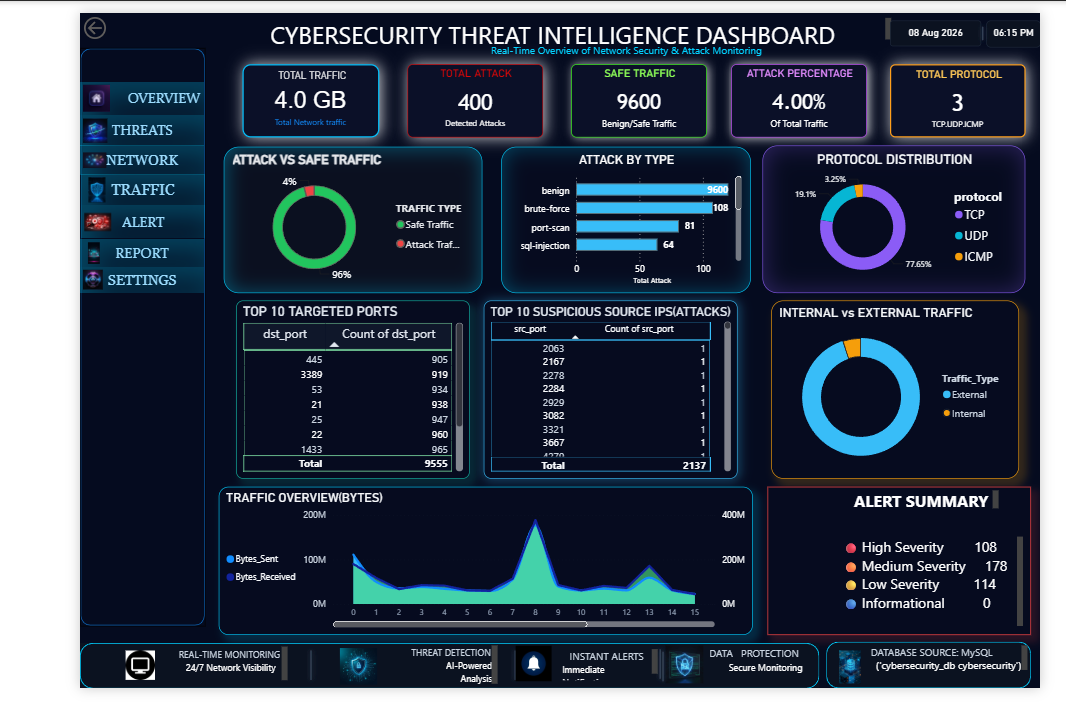

Layout of this report page (visuals, bound fields, positions):
{"tool":"powerbi","page":{"name":"Page 1","canvas":[1280,900],"ordinal":0},"visuals":[{"type":"shape","box":[0,46.2,167.5,771.2],"z":0},{"type":"textbox","box":[181.2,1.2,904.7,51.3],"z":1000},{"type":"textbox","box":[461.3,35.8,534,32.2],"z":2000},{"type":"card","title":"TOTAL PROTOCOL","fields":{"Values":["cybersecurity_db cybersecurity.Total Protocols"]},"box":[1080,67.9,181.2,97.7],"z":3000},{"type":"card","title":"TOTAL TRAFFIC","fields":{"Values":["cybersecurity_db cybersecurity.Total Traffic"]},"box":[216.9,67.9,182.4,97.7],"z":4000},{"type":"card","title":"SAFE TRAFFIC","fields":{"Values":["cybersecurity_db cybersecurity.Safe Traffic"]},"box":[654.4,67.9,181.2,97.7],"z":5000},{"type":"card","title":"ATTACK PERCENTAGE","fields":{"Values":["cybersecurity_db cybersecurity.Attack%"]},"box":[869,67.9,181.2,97.7],"z":6000},{"type":"card","title":"TOTAL ATTACK","fields":{"Values":["cybersecurity_db cybersecurity.Total Attack"]},"box":[436.3,67.9,181.2,97.7],"z":7000},{"type":"actionButton","box":[0,0,100,40],"z":8000},{"type":"donutChart","title":"ATTACK VS SAFE TRAFFIC","fields":{"Category":["cybersecurity_db cybersecurity.Traffic Type"],"Y":["CountNonNull(cybersecurity_db cybersecurity.Traffic Type)"]},"box":[191.9,177.6,344.5,195.5],"z":9000},{"type":"clusteredBarChart","title":"ATTACK BY TYPE","fields":{"Category":["cybersecurity_db cybersecurity.attack_type"],"Y":["CountNonNull(cybersecurity_db cybersecurity.attack_type)"]},"box":[561.4,177.6,332.6,195.5],"z":10000},{"type":"donutChart","title":"PROTOCOL DISTRIBUTION ","fields":{"Category":["cybersecurity_db cybersecurity.protocol"],"Y":["CountNonNull(cybersecurity_db cybersecurity.protocol)"]},"box":[910.7,176.4,350.5,196.7],"z":11000},{"type":"tableEx","title":"TOP 10 TARGETED  PORTS","fields":{"Values":["cybersecurity_db cybersecurity.dst_port","CountNonNull(cybersecurity_db cybersecurity.dst_port)"]},"box":[207.5,383.8,311.2,237.5],"z":12000},{"type":"tableEx","title":"TOP 10 SUSPICIOUS SOURCE IPS(ATTACKS)","fields":{"Values":["cybersecurity_db cybersecurity.src_port","CountNonNull(cybersecurity_db cybersecurity.src_port)"]},"box":[538.8,383.8,338.8,237.5],"z":13000},{"type":"donutChart","title":"INTERNAL vs EXTERNAL TRAFFIC","fields":{"Category":["cybersecurity_db cybersecurity.Traffic_Type"],"Y":["CountNonNull(cybersecurity_db cybersecurity.src_ip)"]},"box":[921.2,383.8,330,237.5],"z":14000},{"type":"areaChart","title":"TRAFFIC OVERVIEW(BYTES)","fields":{"Y":["Sum(cybersecurity_db cybersecurity.bytes_sent)"],"Y2":["Sum(cybersecurity_db cybersecurity.bytes_received)"],"Category":["cybersecurity_db cybersecurity.Hour_Number"]},"box":[184.4,631.1,712.2,197.8],"z":15000},{"type":"textbox","box":[916.2,631.2,351.2,197.5],"z":16000},{"type":"textbox","box":[1020,631.2,210,36.2],"z":17000},{"type":"shape","box":[0,839.2,985.8,60.8],"z":18000},{"type":"shape","box":[568.6,841.6,23.8,56],"z":19000},{"type":"shape","box":[296.8,841.6,22.6,56],"z":20000},{"type":"shape","box":[761.7,839.2,23.8,56],"z":21000},{"type":"textbox","box":[79.9,839.2,201.5,58.4],"z":22000},{"type":"textbox","box":[638.9,844,137.1,51.3],"z":23000},{"type":"textbox","box":[399.3,838,162.1,62],"z":24000},{"type":"textbox","box":[810.6,839.2,171.7,60.8],"z":25000},{"type":"image","box":[59.6,849.9,40.5,39.3],"z":26000},{"type":"image","box":[580.5,844,50.1,47.7],"z":27000},{"type":"image","box":[777.2,842.8,58.4,50.1],"z":28000},{"type":"image","box":[343.3,846.3,56,48.9],"z":29000},{"type":"shape","box":[995.3,838,273,62],"z":30000},{"type":"textbox","box":[1041.8,838,226.5,51.3],"z":31000},{"type":"image","box":[1003.7,849.9,46.5,44.1],"z":32000},{"type":"card","fields":{"Values":["cybersecurity_db cybersecurity.Current Date"]},"box":[1080,10.7,121.6,34.6],"z":33000},{"type":"card","fields":{"Values":["cybersecurity_db cybersecurity.Current Time"]},"box":[1207.5,9.5,72.7,35.8],"z":34000},{"type":"shape","box":[1192,10.7,23.8,34.6],"z":35000},{"type":"shape","box":[316.4,844,921.4,56],"z":36000},{"type":"actionButton","box":[0,91.8,164.5,44.1],"z":37000},{"type":"actionButton","box":[0,135.9,165.7,40.5],"z":38000},{"type":"actionButton","box":[0,176.4,165.7,39.3],"z":39000},{"type":"actionButton","box":[1.2,215.8,164.5,41.7],"z":40000},{"type":"actionButton","box":[1.2,257.5,165.7,44.1],"z":41000},{"type":"actionButton","box":[0,301.6,165.7,37],"z":42000},{"type":"actionButton","box":[0,338.5,165.7,34.6],"z":43000},{"type":"textbox","box":[1012.5,692.5,248.8,136.2],"z":45000}]}

Visuals, with their boxes on the page's 1280x900 design canvas (x1, y1, x2, y2). These are canvas units, not pixel positions in the 1066x702 screenshot, which may show the page scaled, cropped or inside an application window:
shape: BBox(0, 46, 168, 817)
textbox: BBox(181, 1, 1086, 52)
textbox: BBox(461, 36, 995, 68)
"TOTAL PROTOCOL" card: BBox(1080, 68, 1261, 166)
"TOTAL TRAFFIC" card: BBox(217, 68, 399, 166)
"SAFE TRAFFIC" card: BBox(654, 68, 836, 166)
"ATTACK PERCENTAGE" card: BBox(869, 68, 1050, 166)
"TOTAL ATTACK" card: BBox(436, 68, 618, 166)
actionButton: BBox(0, 0, 100, 40)
"ATTACK VS SAFE TRAFFIC" donutChart: BBox(192, 178, 536, 373)
"ATTACK BY TYPE" clusteredBarChart: BBox(561, 178, 894, 373)
"PROTOCOL DISTRIBUTION " donutChart: BBox(911, 176, 1261, 373)
"TOP 10 TARGETED  PORTS" tableEx: BBox(208, 384, 519, 621)
"TOP 10 SUSPICIOUS SOURCE IPS(ATTACKS)" tableEx: BBox(539, 384, 878, 621)
"INTERNAL vs EXTERNAL TRAFFIC" donutChart: BBox(921, 384, 1251, 621)
"TRAFFIC OVERVIEW(BYTES)" areaChart: BBox(184, 631, 897, 829)
textbox: BBox(916, 631, 1267, 829)
textbox: BBox(1020, 631, 1230, 667)
shape: BBox(0, 839, 986, 900)
shape: BBox(569, 842, 592, 898)
shape: BBox(297, 842, 319, 898)
shape: BBox(762, 839, 786, 895)
textbox: BBox(80, 839, 281, 898)
textbox: BBox(639, 844, 776, 895)
textbox: BBox(399, 838, 561, 900)
textbox: BBox(811, 839, 982, 900)
image: BBox(60, 850, 100, 889)
image: BBox(580, 844, 631, 892)
image: BBox(777, 843, 836, 893)
image: BBox(343, 846, 399, 895)
shape: BBox(995, 838, 1268, 900)
textbox: BBox(1042, 838, 1268, 889)
image: BBox(1004, 850, 1050, 894)
card - cybersecurity_db cybersecurity.Current Date: BBox(1080, 11, 1202, 45)
card - cybersecurity_db cybersecurity.Current Time: BBox(1208, 10, 1280, 45)
shape: BBox(1192, 11, 1216, 45)
shape: BBox(316, 844, 1238, 900)
actionButton: BBox(0, 92, 164, 136)
actionButton: BBox(0, 136, 166, 176)
actionButton: BBox(0, 176, 166, 216)
actionButton: BBox(1, 216, 166, 258)
actionButton: BBox(1, 258, 167, 302)
actionButton: BBox(0, 302, 166, 339)
actionButton: BBox(0, 338, 166, 373)
textbox: BBox(1012, 692, 1261, 829)
